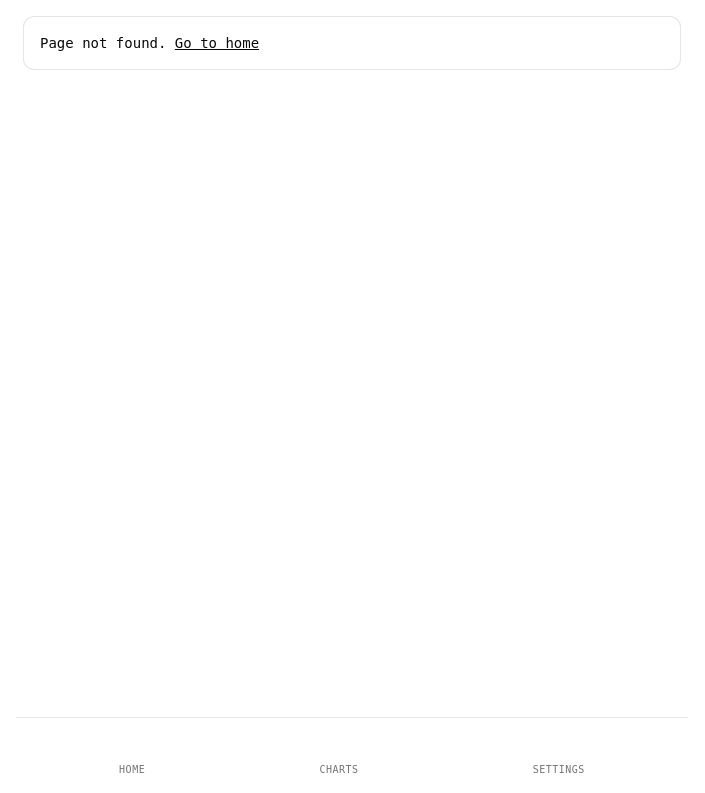
app routes › unknown paths show the not-found card with a way home
The image size is (705, 793).
Check: the navigation bar is shown, box [16,717,688,792]
Check: the text "Page not found." is shown, box [40,35,175,51]
Click the link "Go to home" at (217,43), box [175,35,259,51]
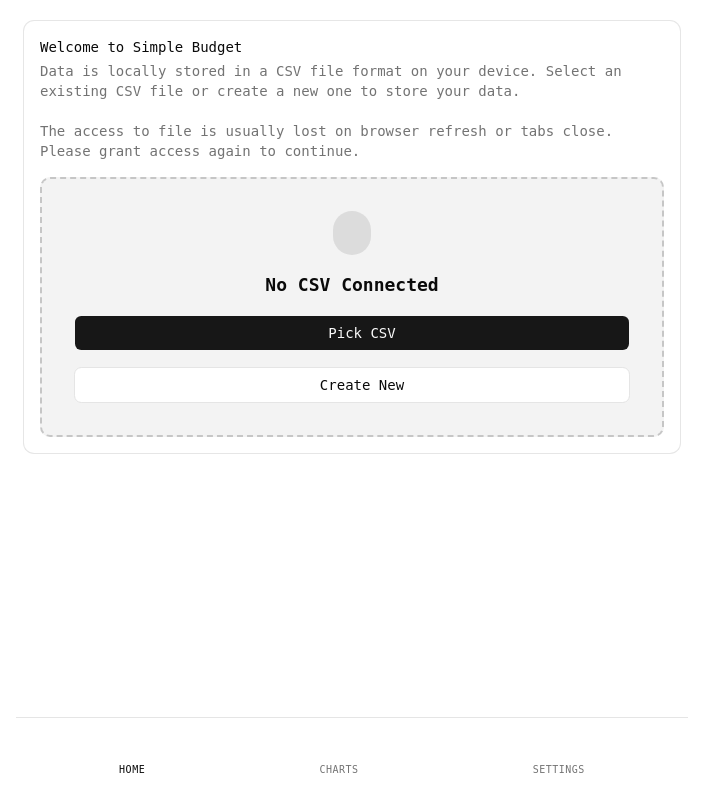
Check: the text "Welcome to Simple Budget" is shown, box [40,37,242,57]
